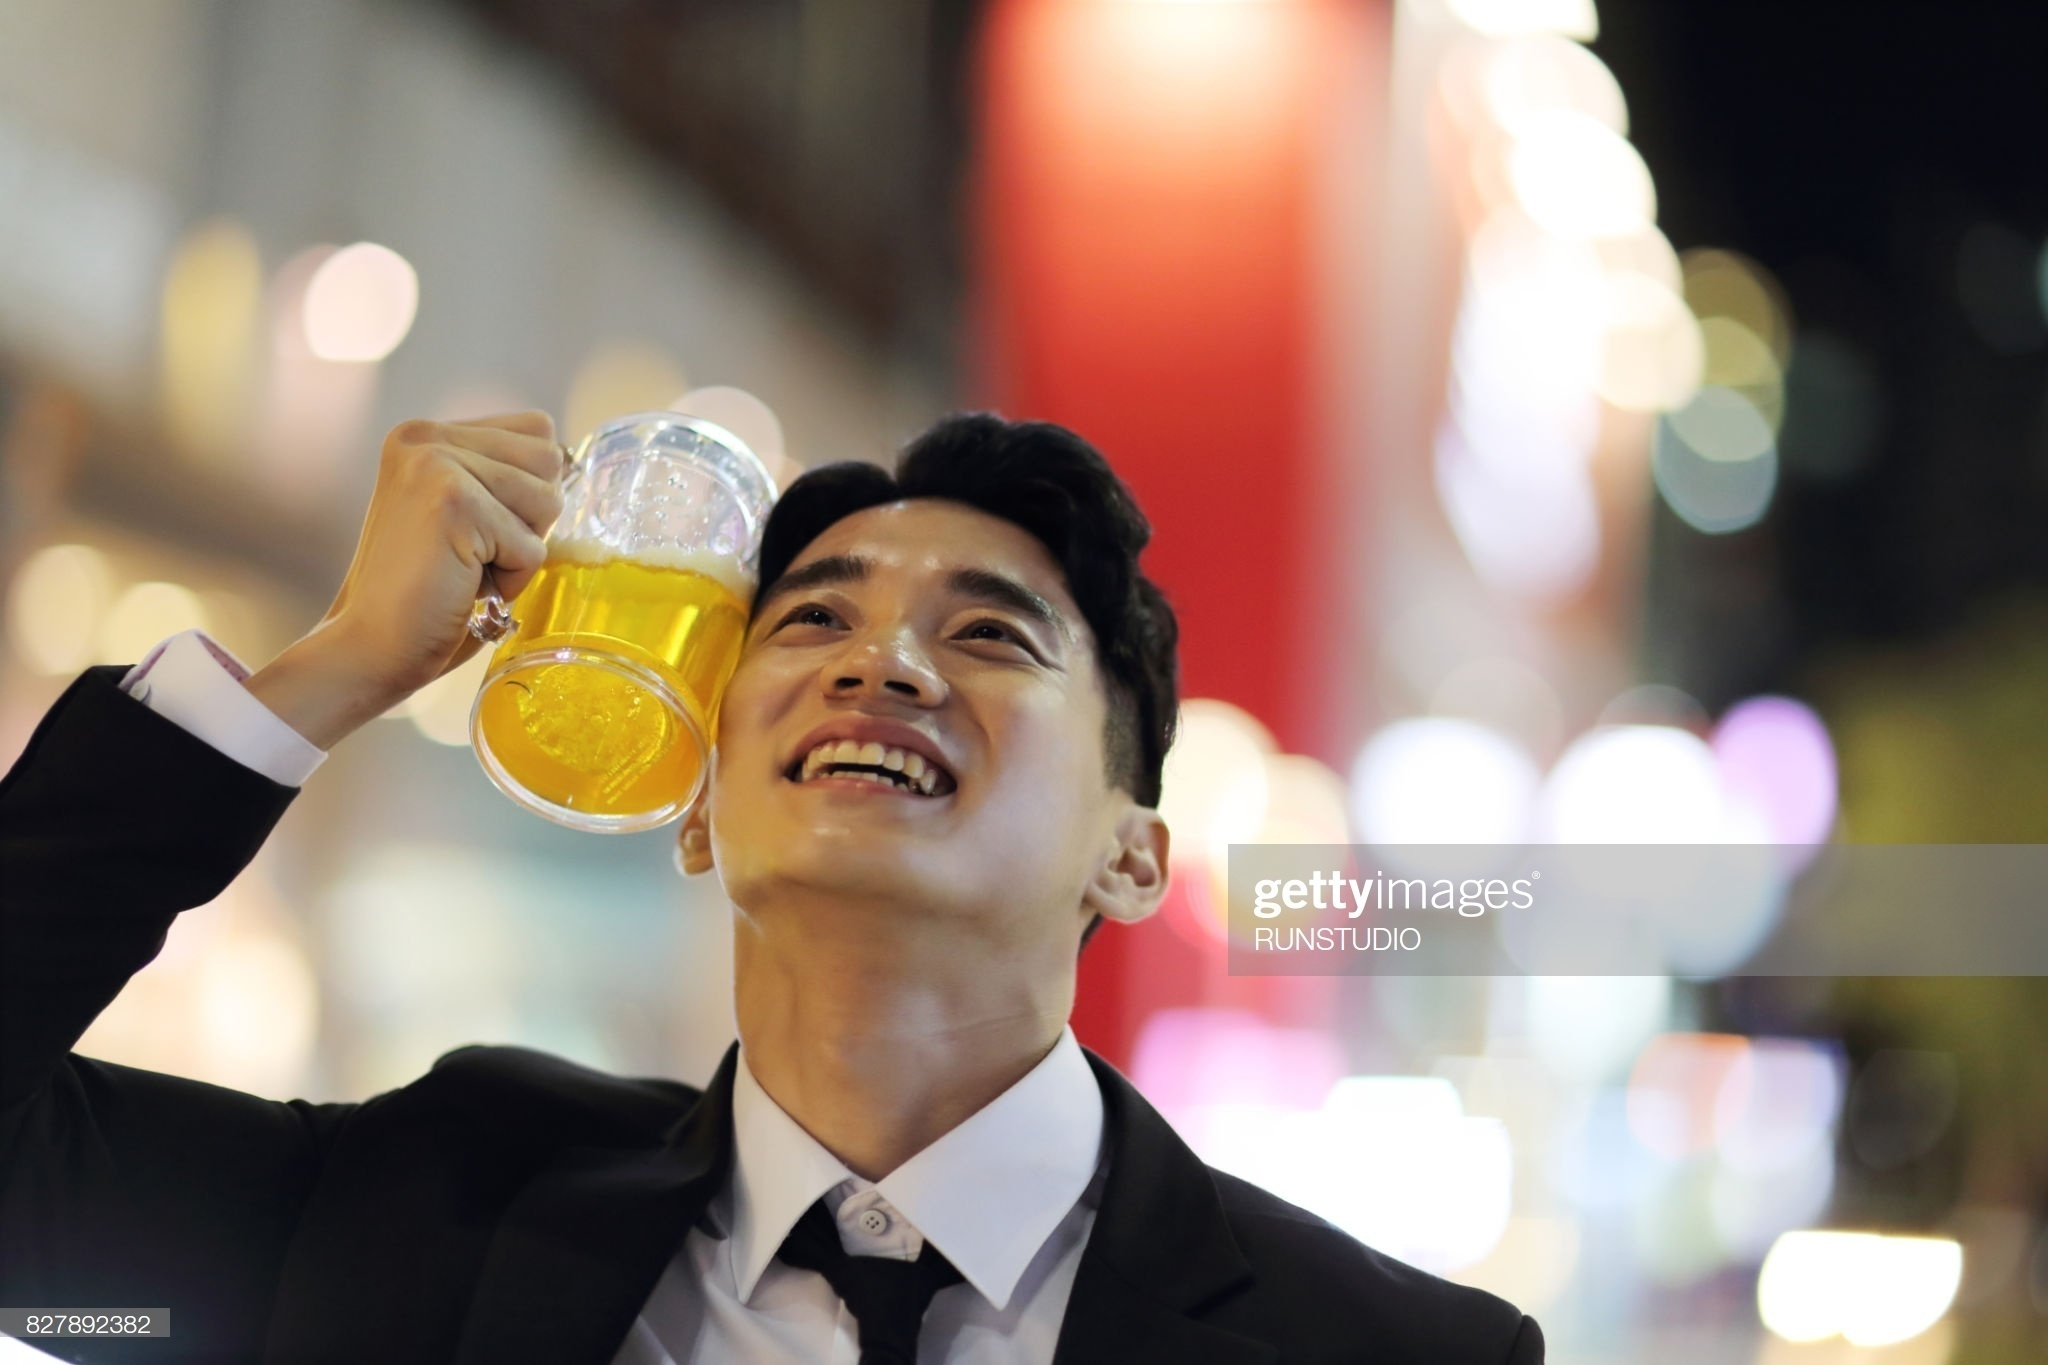whiskey: (487, 430, 774, 798)
